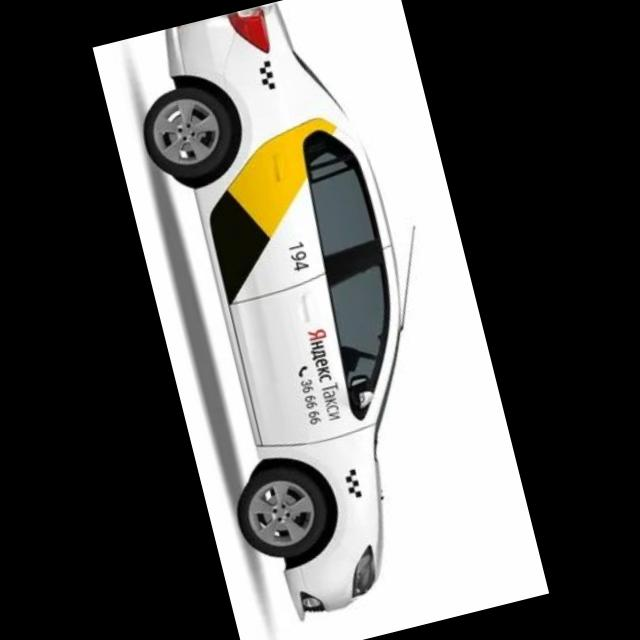taxi: (118, 1, 499, 630)
